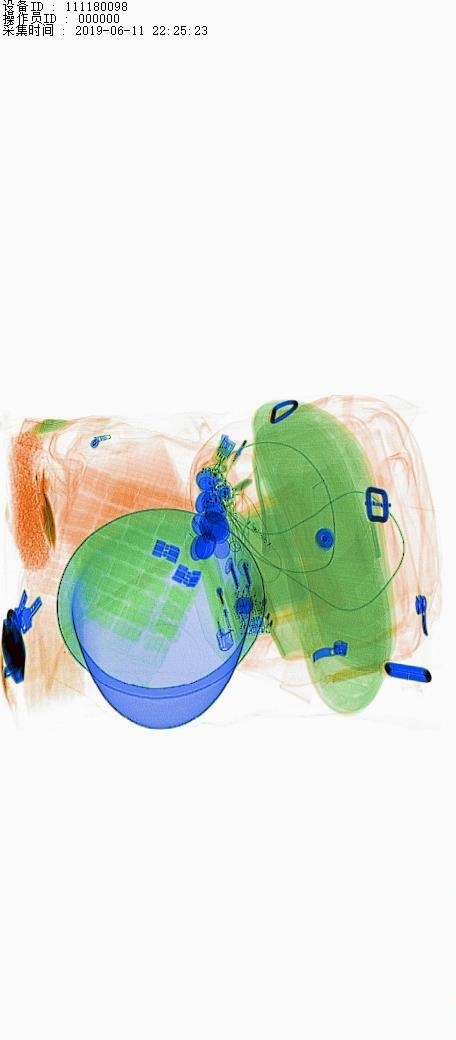NonmetallicFire: (181, 522, 277, 705)
